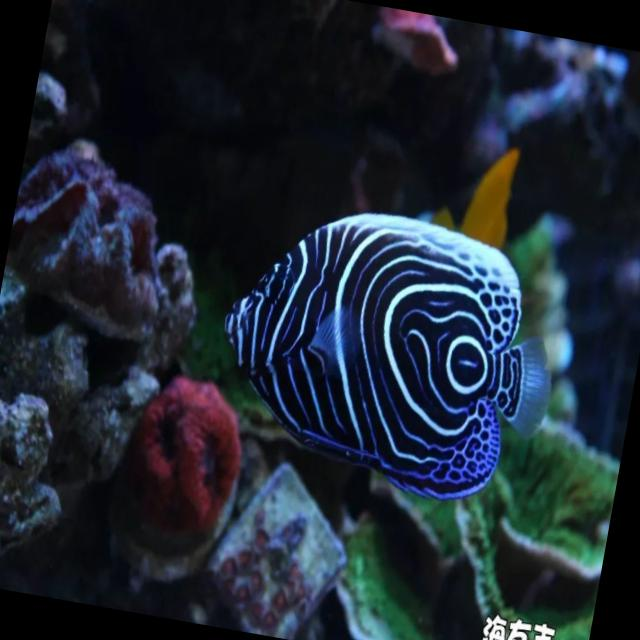AngelFish: (200, 185, 577, 516)
